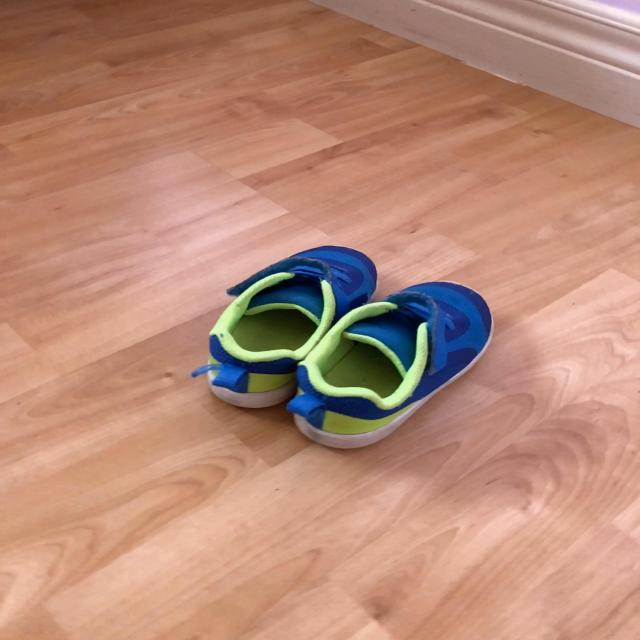shoe: (286, 282, 495, 452), (202, 247, 379, 411)
